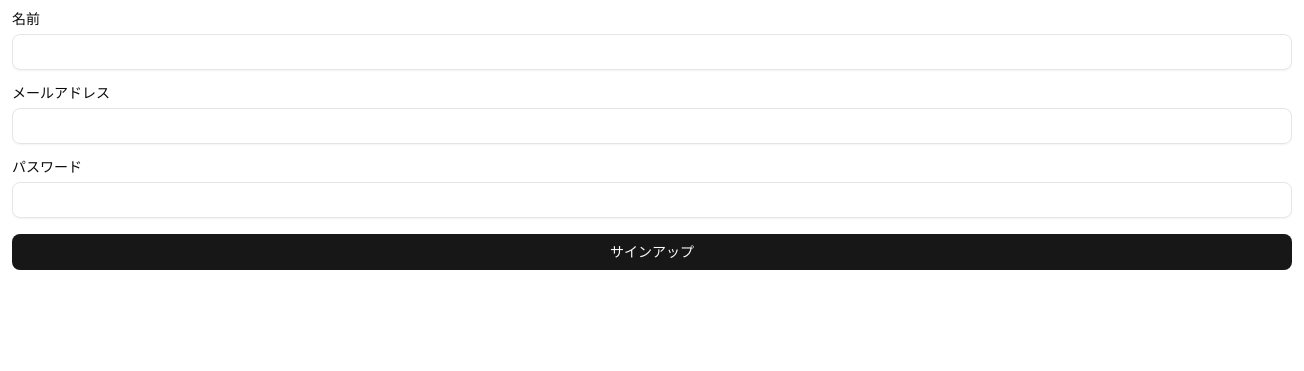
Test: SignUpForm › バリデーションエラーを表示する
The width and height of the screenshot is (1304, 371).
Click the button "サインアップ": (652, 252) [12,234,1292,270]
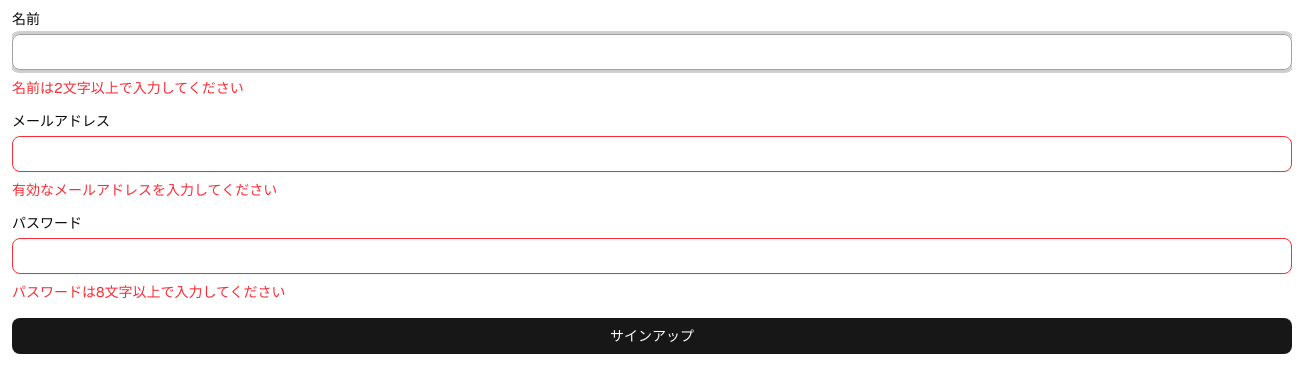
Expected: the text "名前は2文字以上で入力してください" is shown, [12,79,244,97]
Expected: the text "有効なメールアドレスを入力してください" is shown, [12,181,277,199]
Expected: the text "パスワードは8文字以上で入力してください" is shown, [12,283,286,301]
